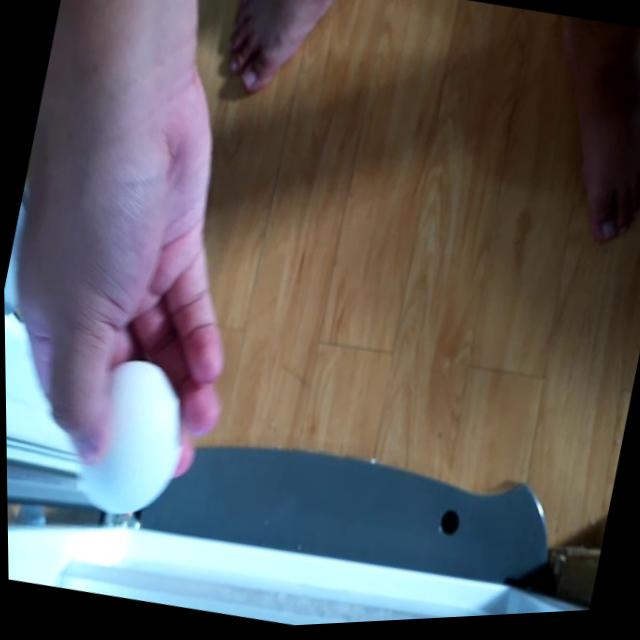egg: (56, 350, 195, 524)
